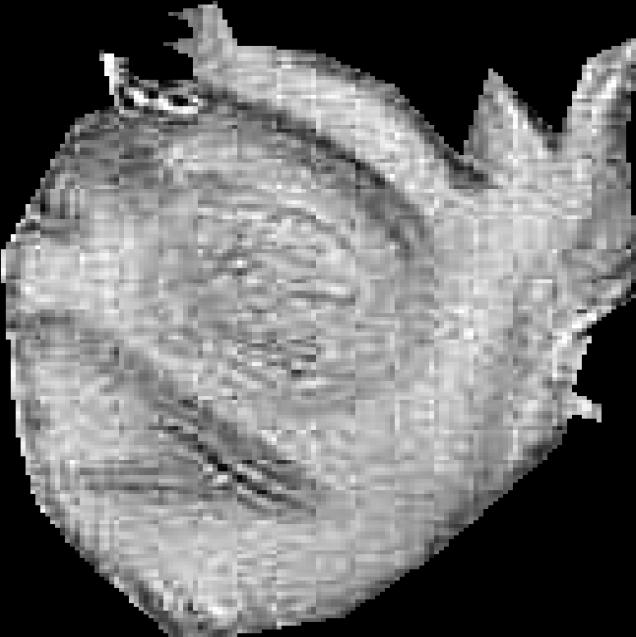tumor_moderate_chance: (1, 1, 636, 637)
